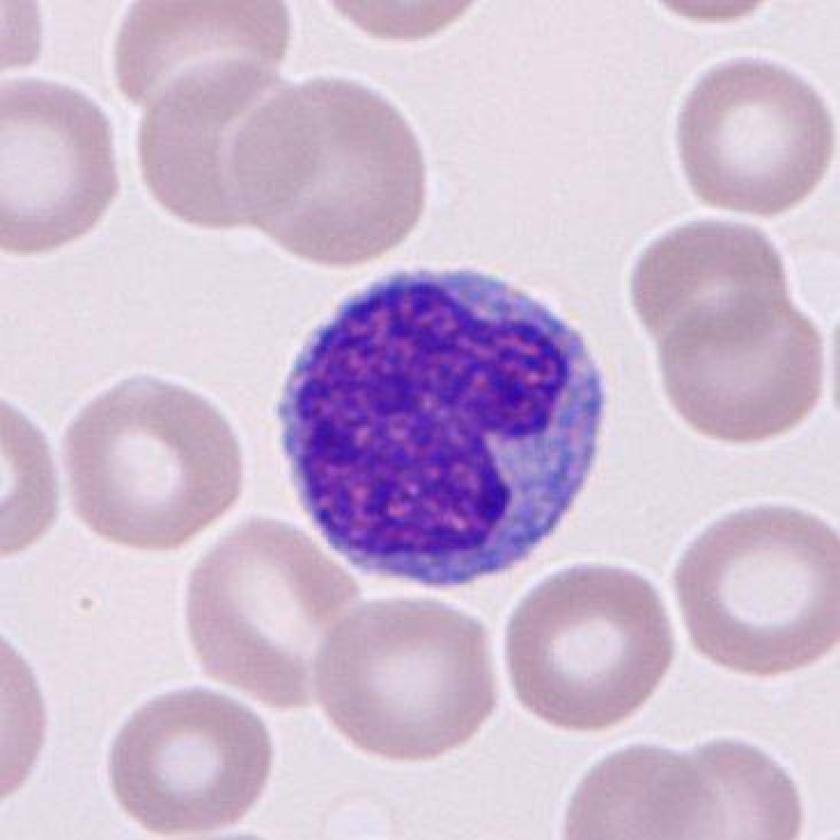monocyte: (263, 249, 630, 609)
